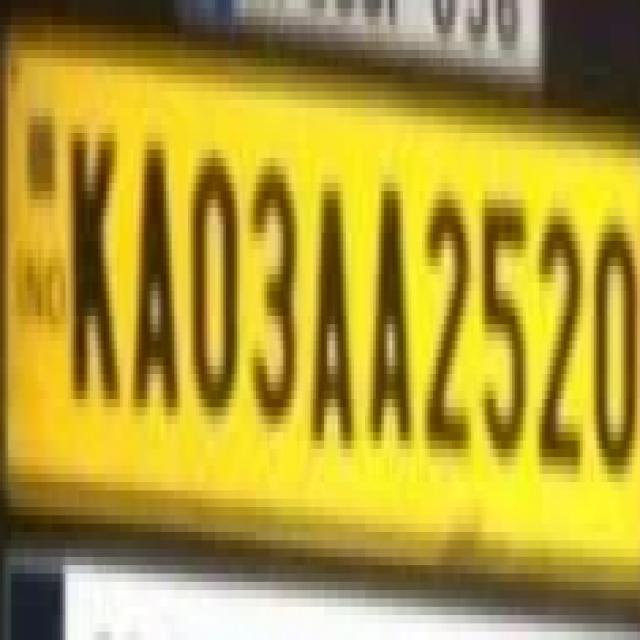0: (187, 116, 245, 446), (590, 194, 640, 499)
3: (246, 134, 305, 454)
5: (477, 184, 537, 504)
A: (363, 167, 420, 480), (130, 117, 184, 437), (306, 157, 356, 462)
K: (69, 111, 127, 426)
